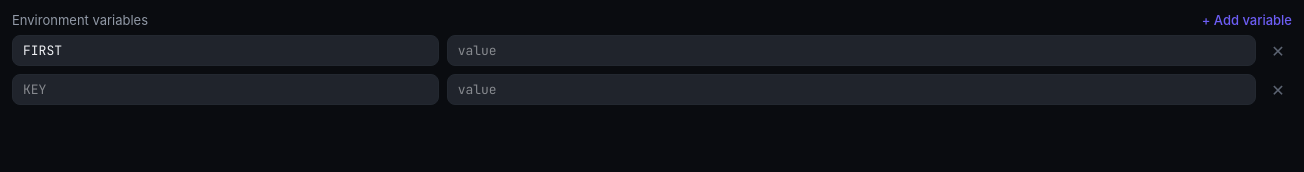
environment row identity survives typing, backspace, and removing an earlier row
Later steps or results of the test are not shown.
Type "FOO_LONG_KEY" into the field named "Variable 2 name" at (225, 90), box [12,74,439,105]
Then press Backspace
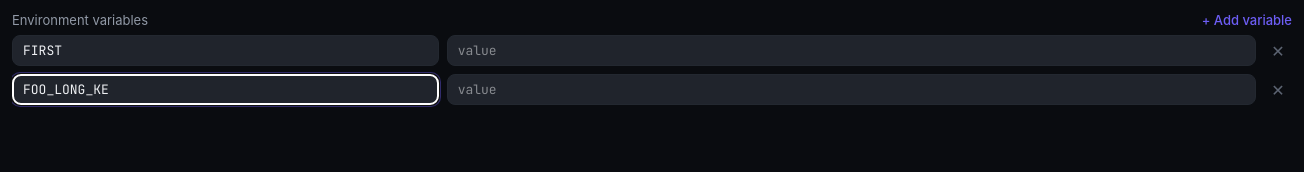
Now the field named "Variable 2 name" holds "FOO_LONG_KE", box [12,74,439,105]
